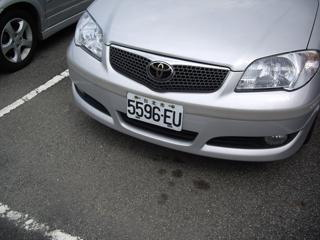plate: (125, 89, 184, 131)
